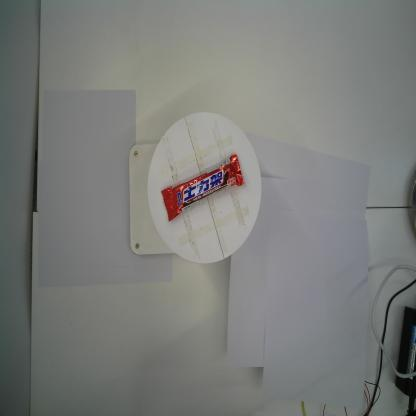Chocolate: (160, 154, 244, 223)
